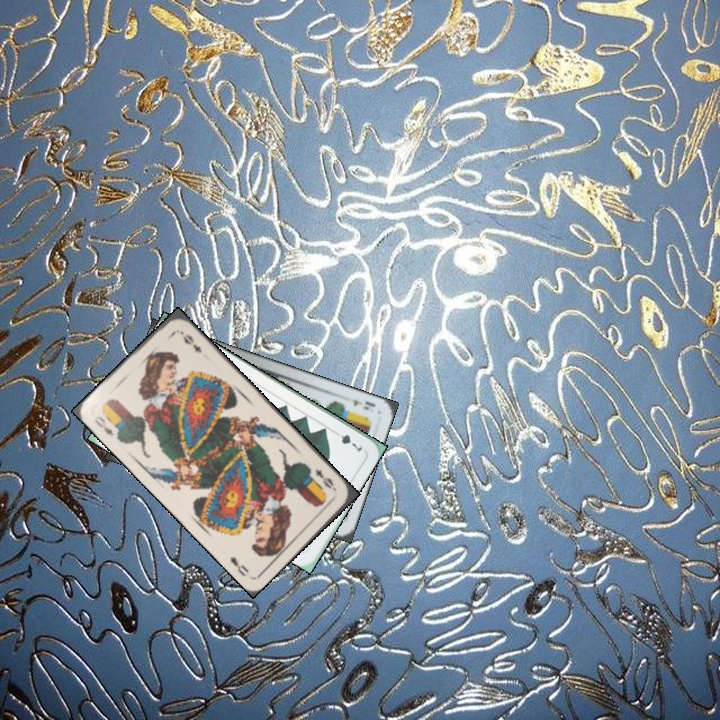EK: (341, 392, 378, 413)
EO: (311, 464, 339, 494), (90, 412, 116, 438)
G7: (329, 427, 365, 454)
